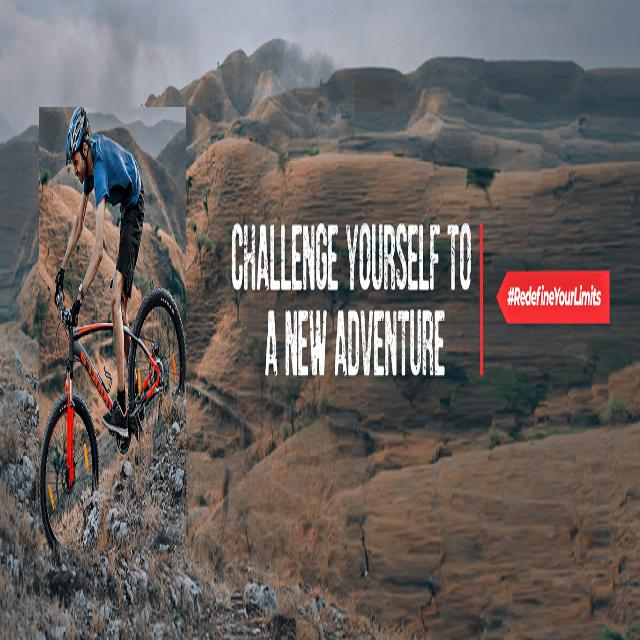bicycle: (39, 107, 186, 550)
